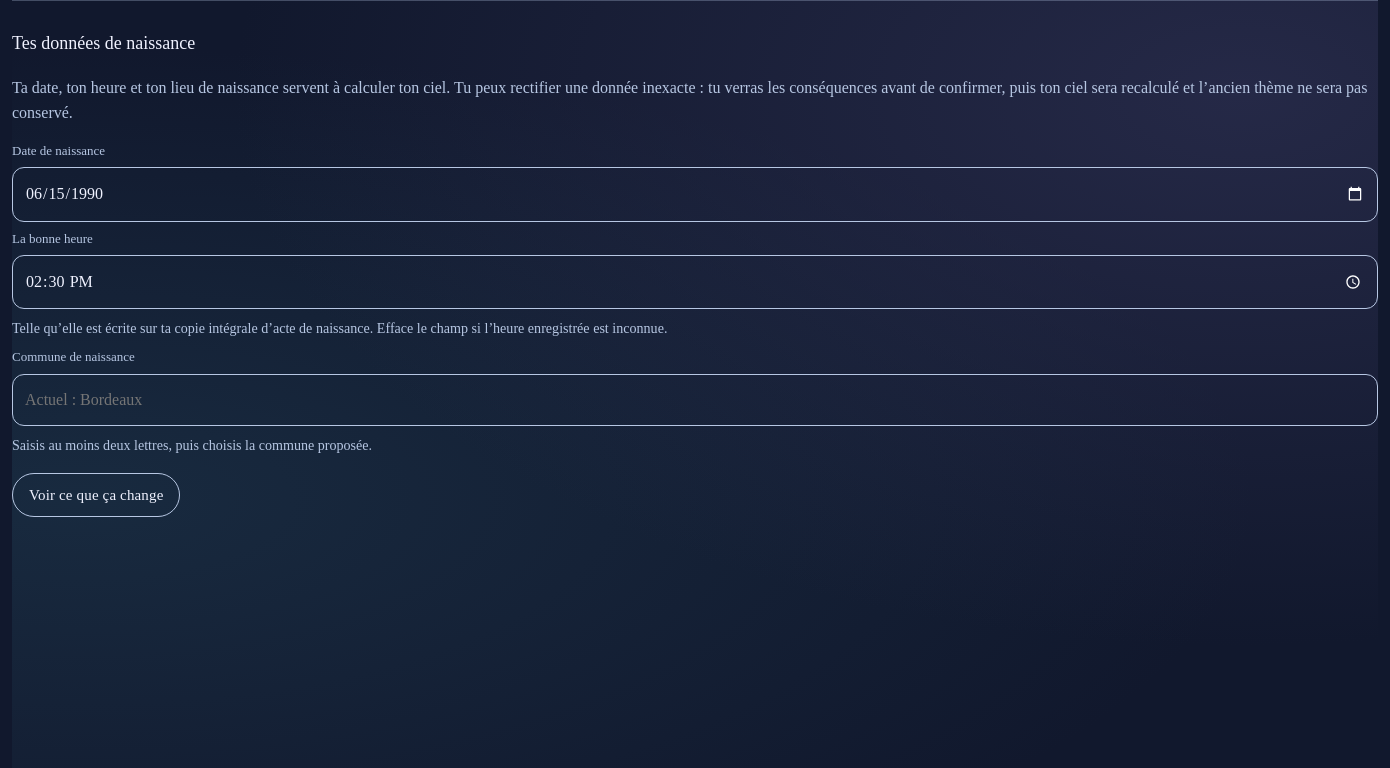
Test: [6.5b] On ne peut pas écrire sans avoir vu › « renoncer » ramène à l'état de départ, sans rien écrire
Replace the text in the time field labelled "La bonne heure" with "04:30": [695, 282] box [12,255,1378,309]
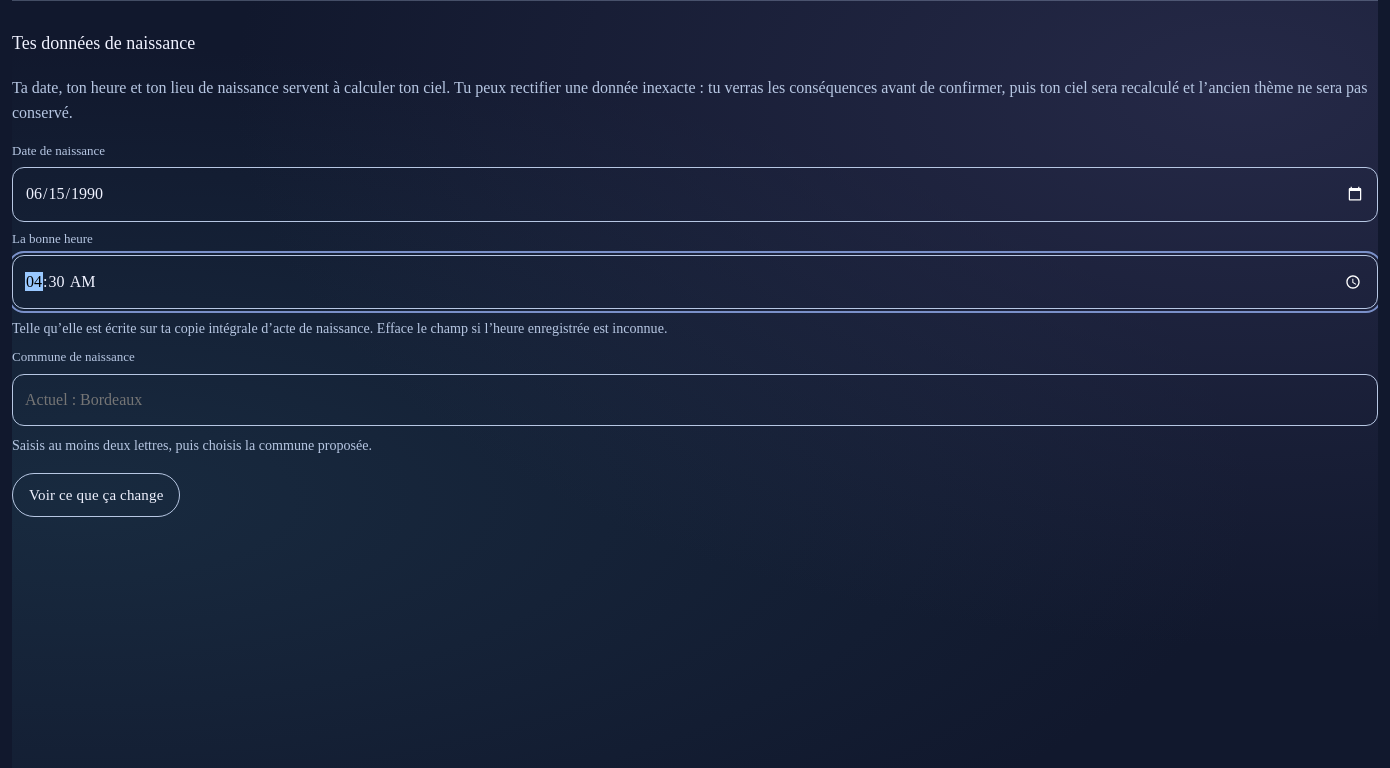
Click the button "Voir ce que ça change": [96, 495] box [12,473,180,517]
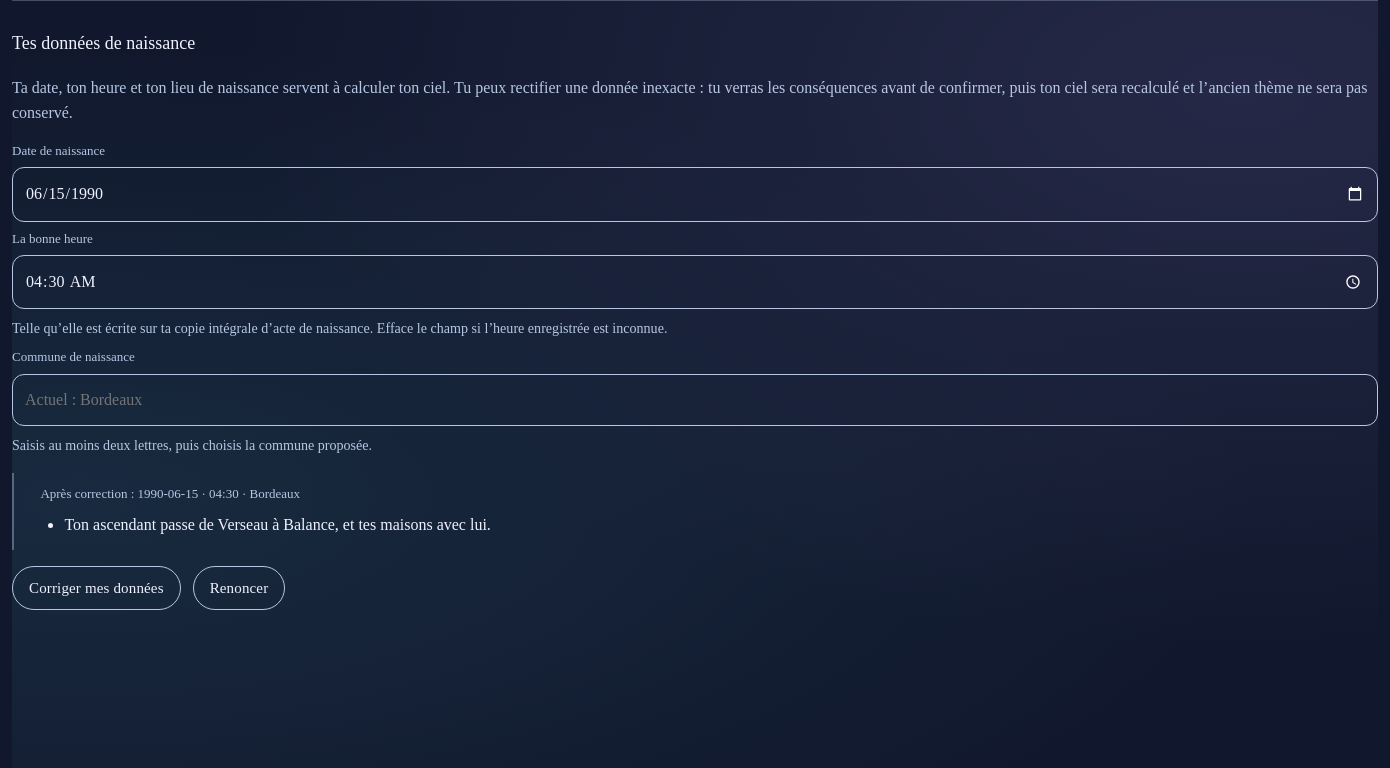
Click the button "Renoncer": [239, 588] box [193,566,285,610]
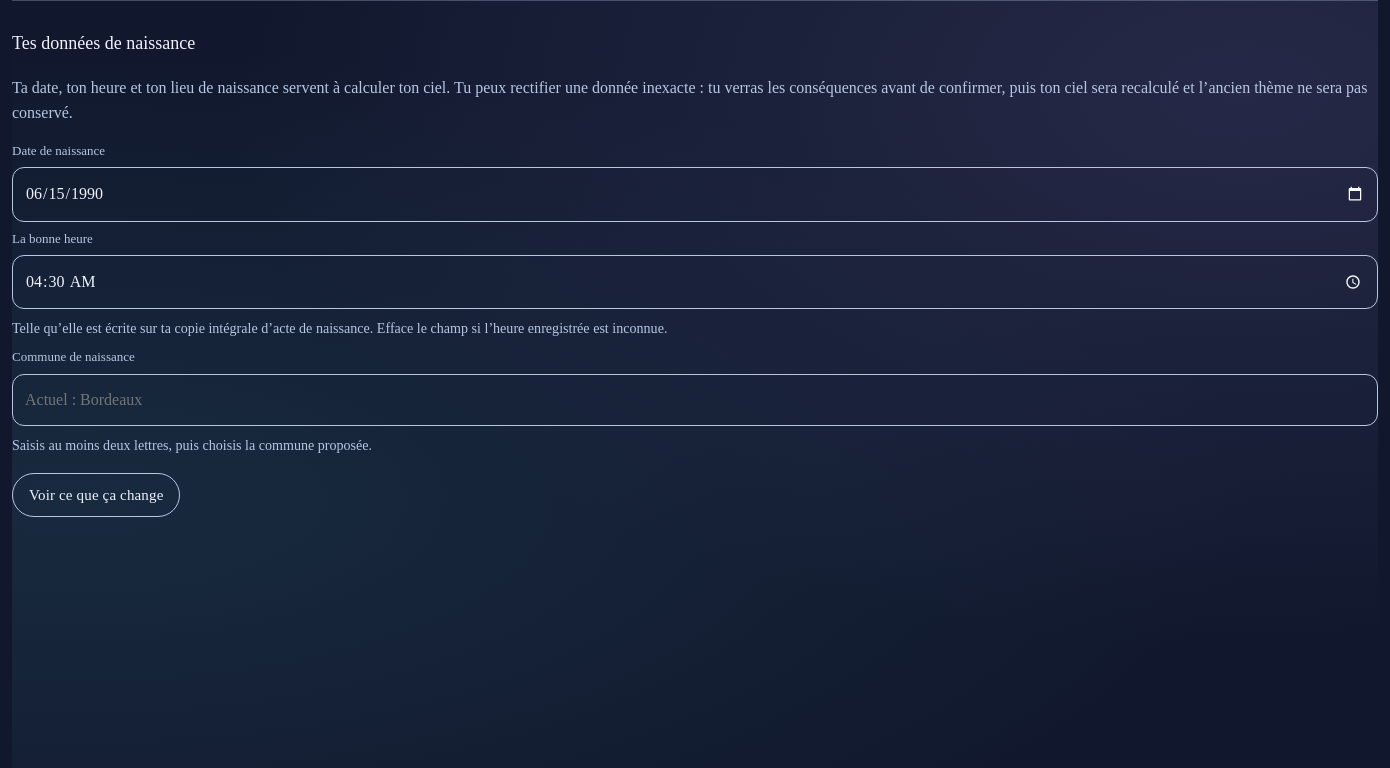
Expected: the button "Voir ce que ça change" is shown, [12,473,180,517]
